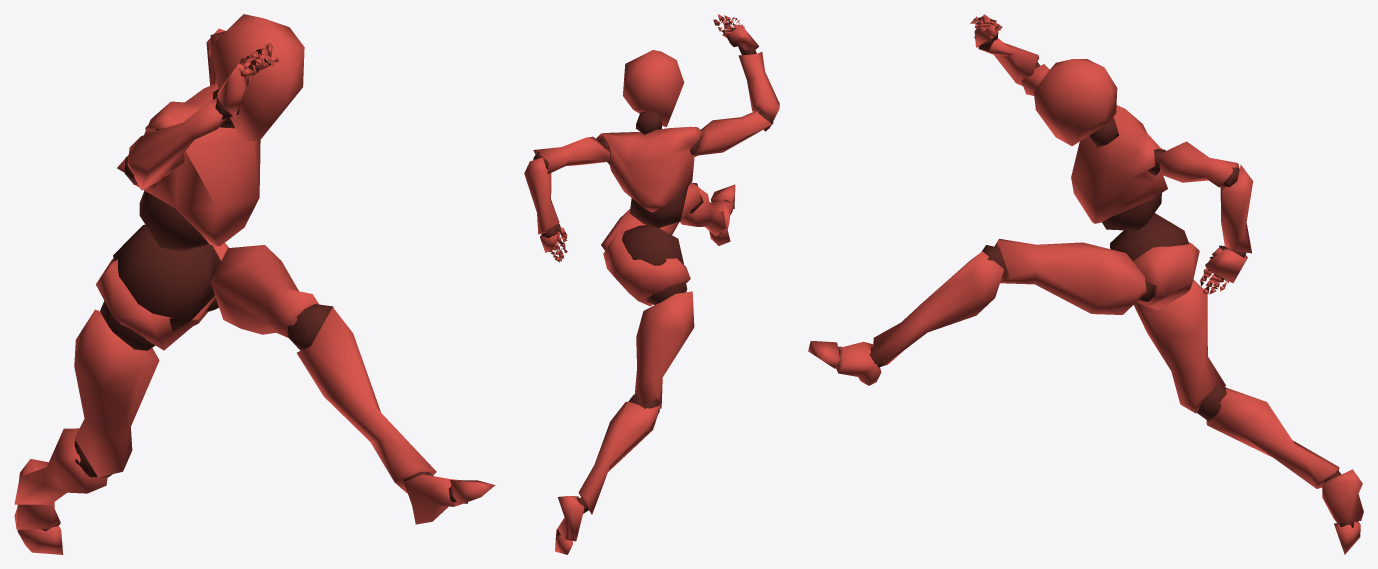
3 views of the same model, side by side, from view 1: azimuth 30°, elevation 25°; view 2: azimuth 150°, elevation 25°; view 3: azimuth 270°, elevation 25° (orthographic). The views are drawn at different scales.
Visible parts, largest first — view 1: Beta_Surface; view 2: Beta_Surface; view 3: Beta_Surface.
Boxes of the visible parts, x1,y1,x2,y2 form: Beta_Surface: (14,14,495,554); Beta_Surface: (524,14,779,554); Beta_Surface: (808,14,1363,554).
Size of the model in its own units: 5.86 by 14.93 by 14.3.
